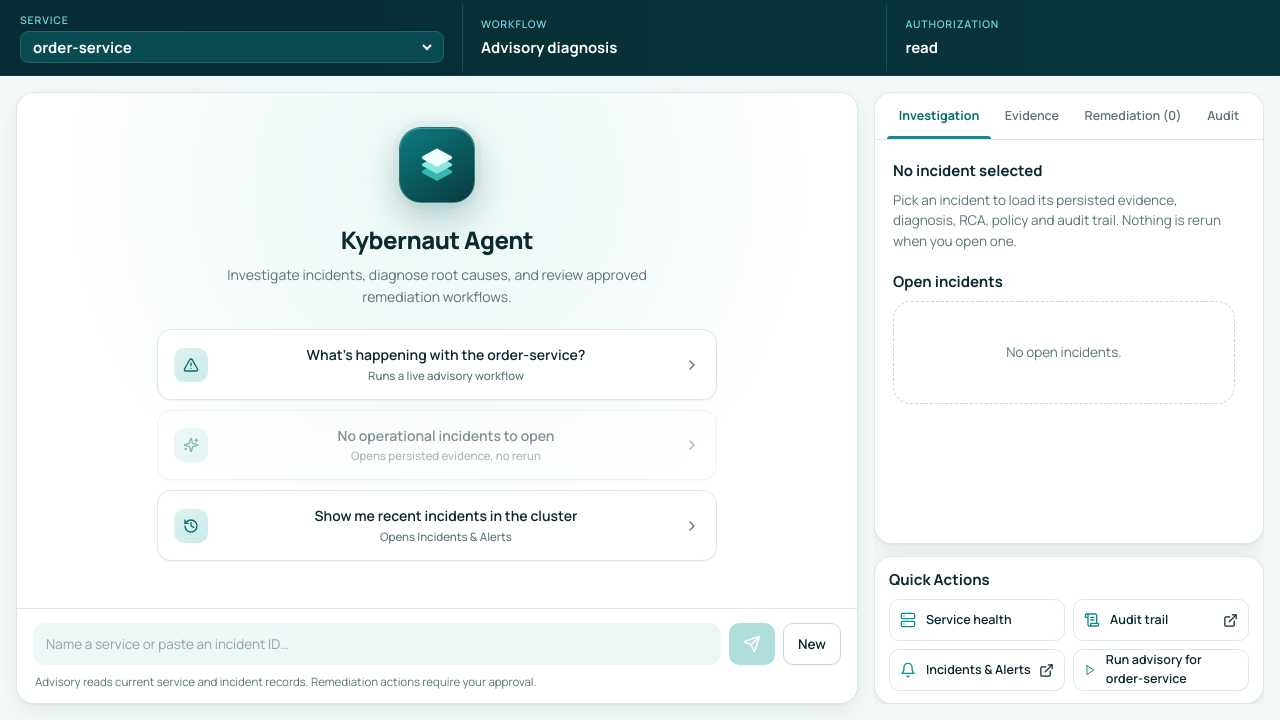
Test: Console natural-language queries › returns only the requested service in current telemetry
This screenshot has width=1280, height=720.
In the text box named "Ask Kybernaut": x=377, y=644 [33, 623, 721, 665], type "Show current telemetry for payment-service only"
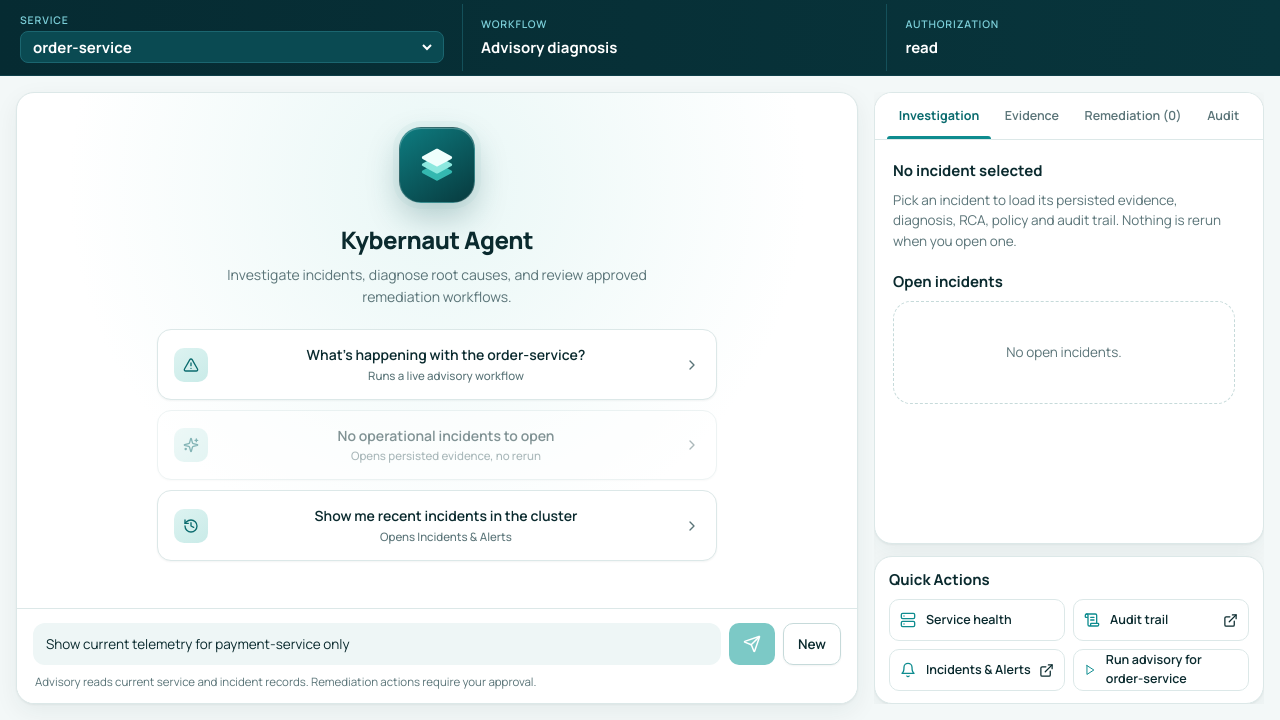
Click the button named "Send": x=752, y=644 [729, 623, 775, 665]
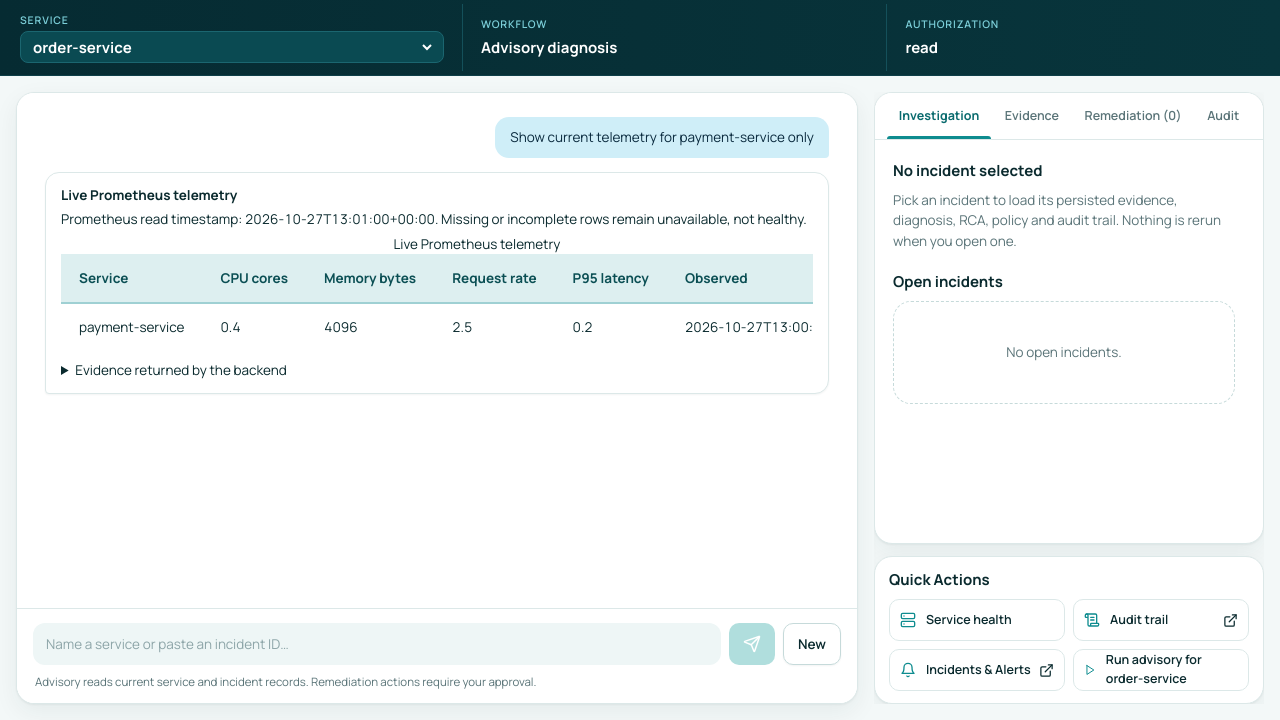
Check: the text "order-service" is not shown
Check: the row "payment-service 0.4 4096 2.5 0.2 2026-10-27T13:00:58+00:00" is shown, box [61, 303, 813, 350]
